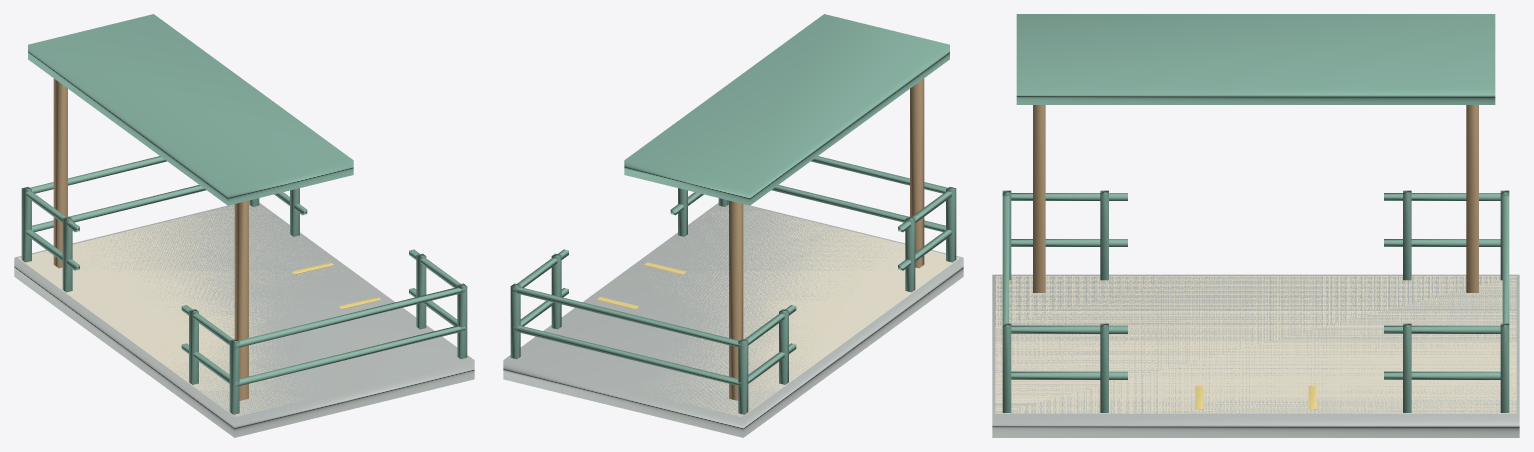
Rendered from train_platform_low.glb.
3 renders of one model, left to right at view 1: azimuth 30°, elevation 25°; view 2: azimuth 150°, elevation 25°; view 3: azimuth 270°, elevation 25°, orthographic. The views are drawn at different scales.
Bounding box in the file's own units: 3.4 × 3.23 × 5.4.
